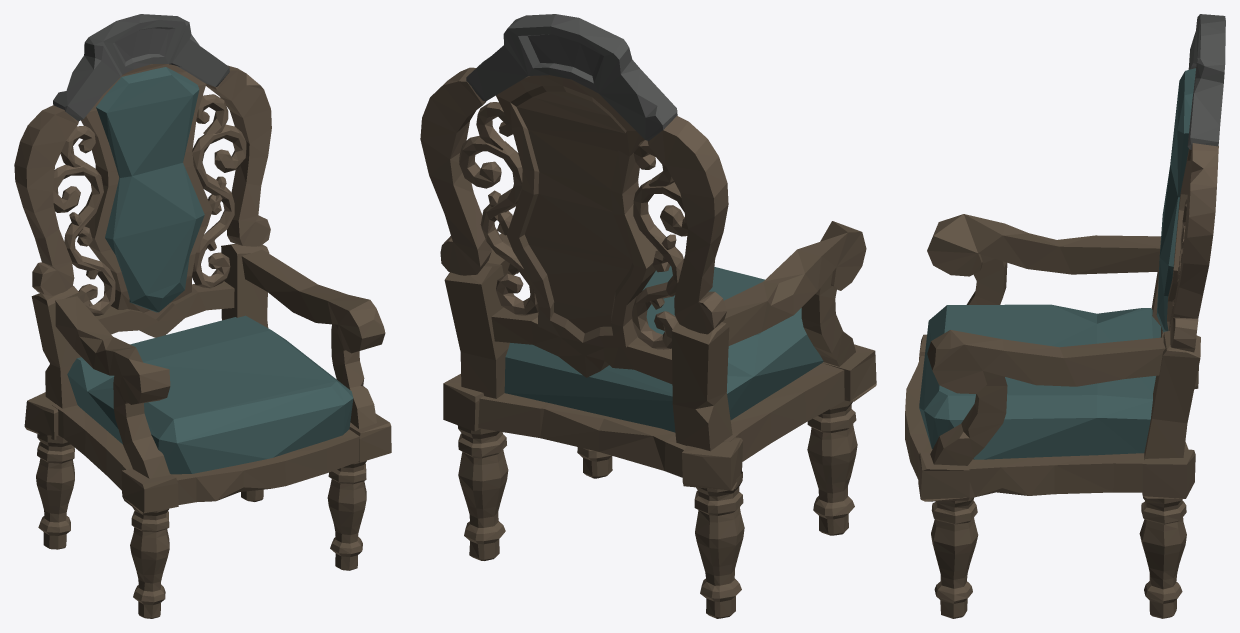
File: Chair_005.fbx
3 views of the same model, side by side, from view 1: azimuth 30°, elevation 25°; view 2: azimuth 150°, elevation 25°; view 3: azimuth 270°, elevation 25° (orthographic). The views are drawn at different scales.
Visible parts, largest first — view 1: Chair_005; view 2: Chair_005; view 3: Chair_005.
Boxes of the visible parts, left/top/right/bottom form: Chair_005: left=14, top=14, right=391, bottom=618; Chair_005: left=420, top=14, right=876, bottom=618; Chair_005: left=905, top=14, right=1225, bottom=618.
Bounding box in the file's own units: 1.11 × 2.07 × 1.11.
